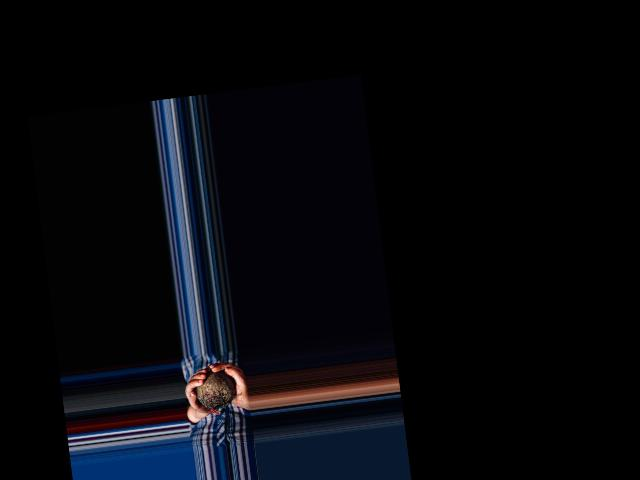beet: (194, 369, 238, 417)
